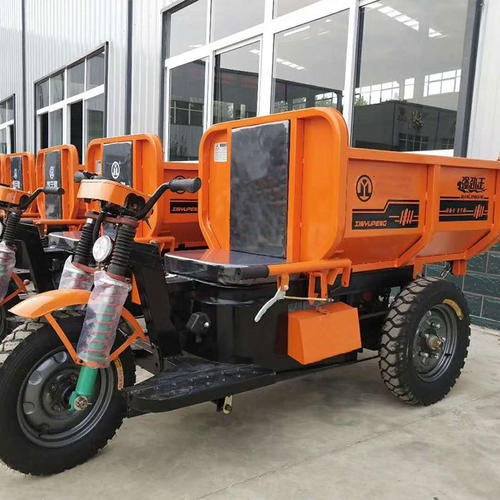tricycle: (16, 126, 500, 461)
